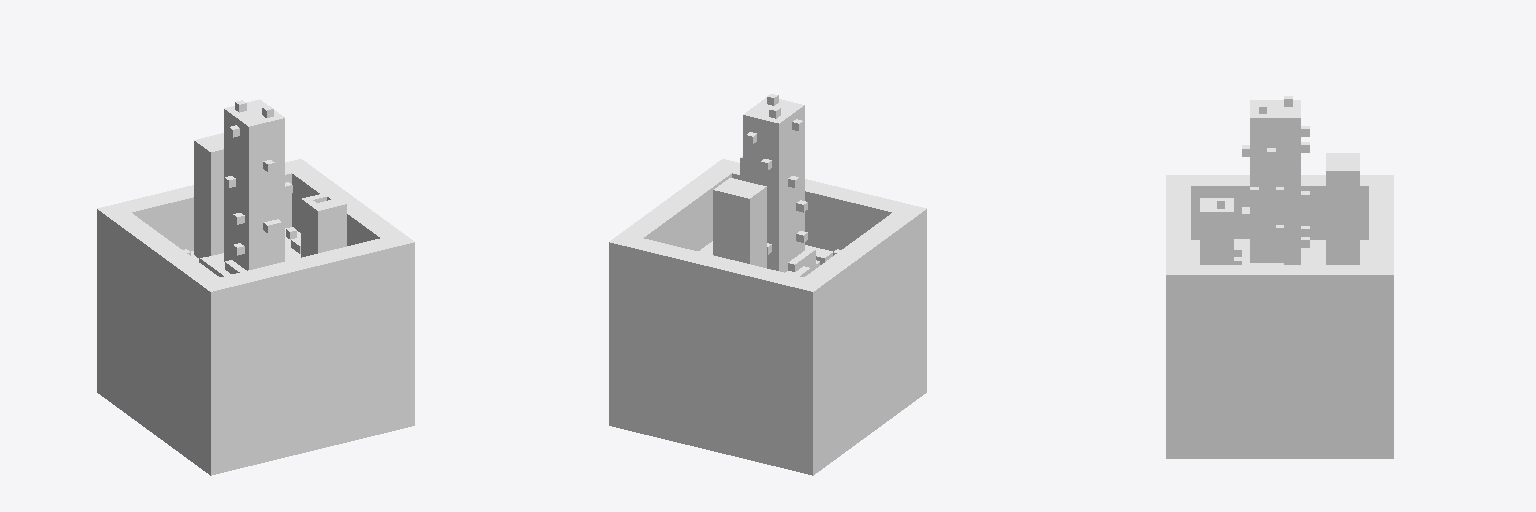
Rendered from smallpottedplant.obj.
3 renders of one model, left to right at view 1: azimuth 30°, elevation 25°; view 2: azimuth 150°, elevation 25°; view 3: azimuth 270°, elevation 25°, orthographic.
Visible parts, largest first — view 1: smallpottedplant; view 2: smallpottedplant; view 3: smallpottedplant.
Part boxes in pixels (bbox=[...]): smallpottedplant: bbox=[97, 99, 414, 475]; smallpottedplant: bbox=[609, 94, 926, 475]; smallpottedplant: bbox=[1166, 96, 1393, 458].
Size of the model in its own units: 28 by 40 by 27.